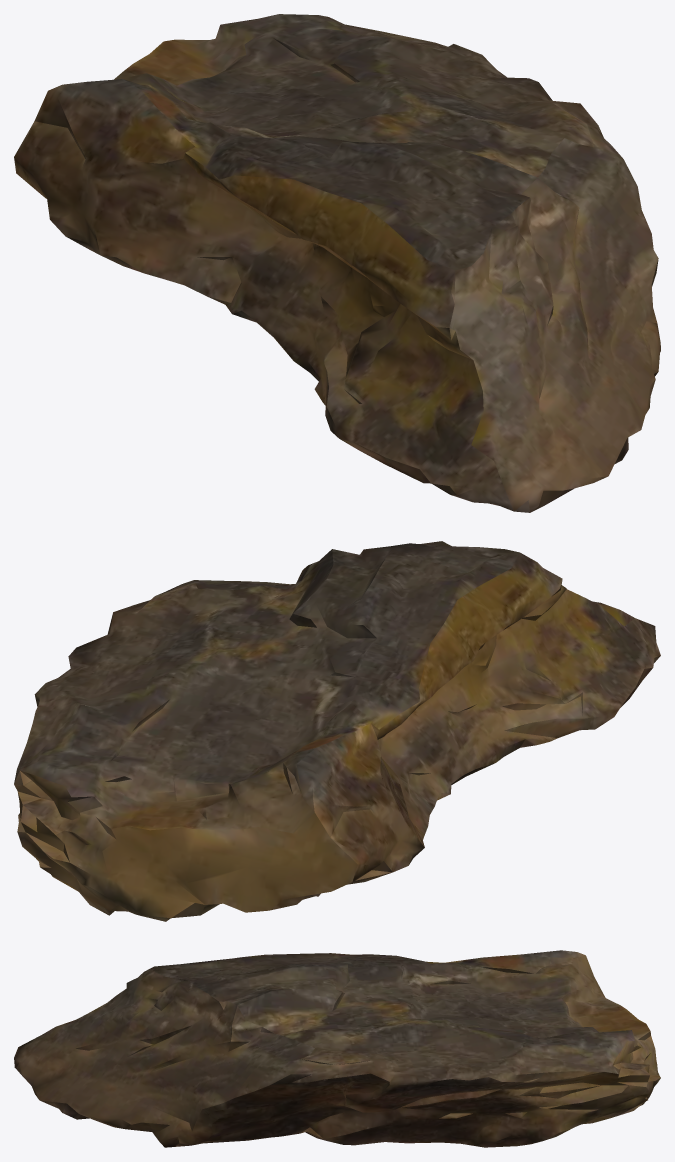
Rendered from rock_chunk_b.glb.
3 views of the same model, one above another, from view 1: azimuth 30°, elevation 25°; view 2: azimuth 150°, elevation 25°; view 3: azimuth 270°, elevation 25° (orthographic). The views are drawn at different scales.
Visible parts, largest first — view 1: rock_chunk_b; view 2: rock_chunk_b; view 3: rock_chunk_b.
Boxes of the visible parts, x1,y1,x2,y2 form: rock_chunk_b: (14,14,660,512); rock_chunk_b: (14,541,660,921); rock_chunk_b: (14,950,660,1147).
Bounding box in the file's own units: 0.5109 × 0.2266 × 1.
1 material, 1 textured.
